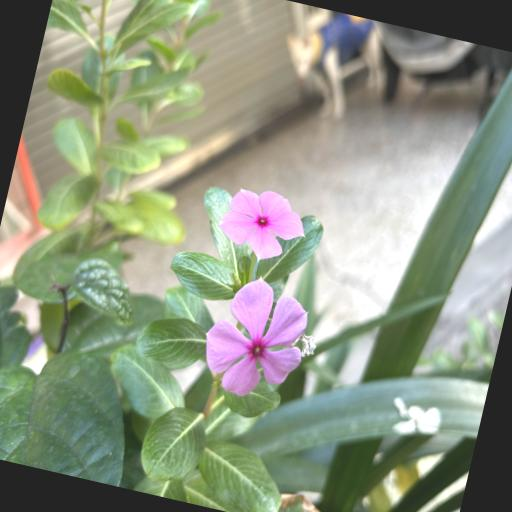Periwinkle: (200, 273, 313, 402), (212, 183, 308, 266)
